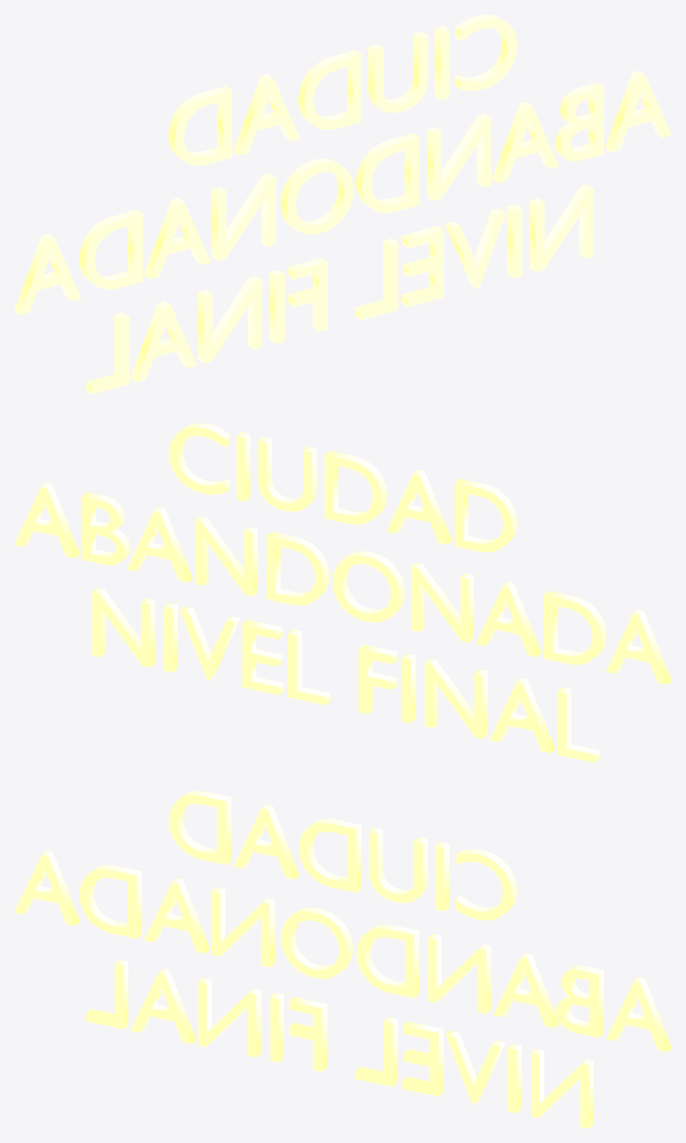
Rendered from crt_inicio_tx_lev5.glb.
The picture shows the model from 3 angles, top to bottom: view 1: azimuth 30°, elevation 25°; view 2: azimuth 150°, elevation 25°; view 3: azimuth 330°, elevation 25°; orthographic projection. The views are drawn at different scales.
Visible parts, largest first — view 1: crt_inicio_tx_lev5; view 2: crt_inicio_tx_lev5; view 3: crt_inicio_tx_lev5.
Part boxes in pixels (bbox=[...]): crt_inicio_tx_lev5: bbox=[14, 14, 671, 394]; crt_inicio_tx_lev5: bbox=[14, 423, 671, 762]; crt_inicio_tx_lev5: bbox=[14, 791, 671, 1128].
Bounding box in the file's own units: 2.7 × 1.02 × 0.1889.
